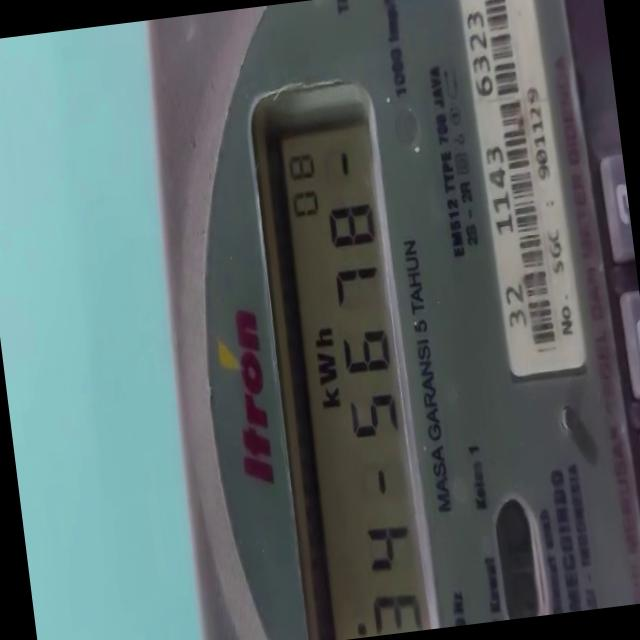LCD: (228, 58, 453, 640)
